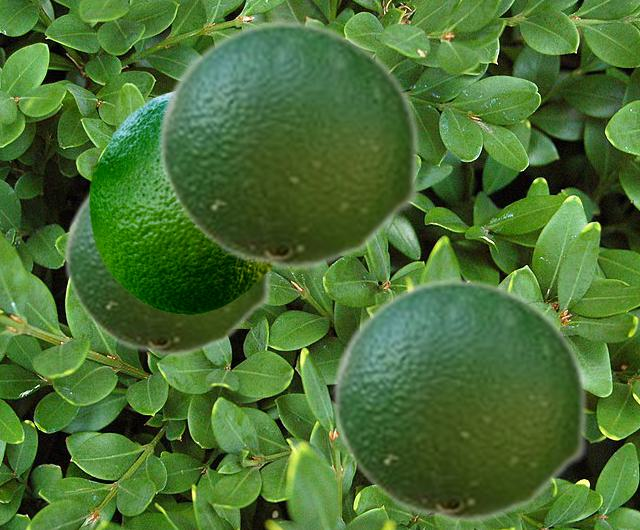dalandan: (157, 19, 420, 271), (331, 277, 588, 524), (89, 90, 271, 313), (63, 191, 271, 357)
